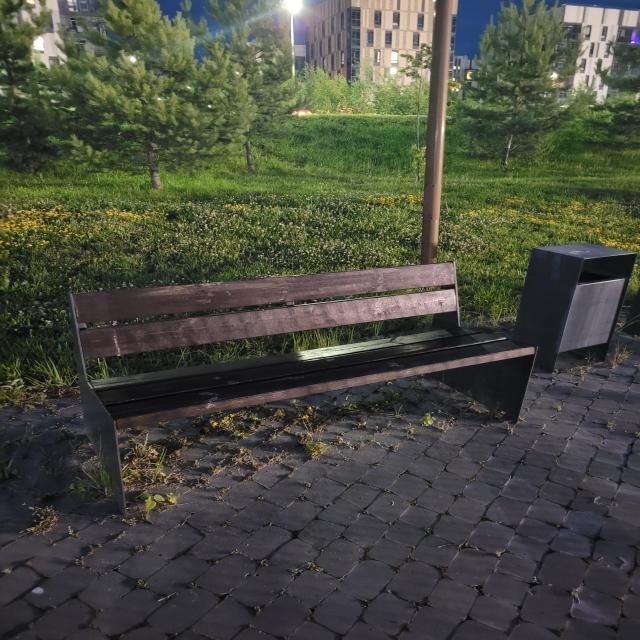Bench: (70, 261, 537, 518)
